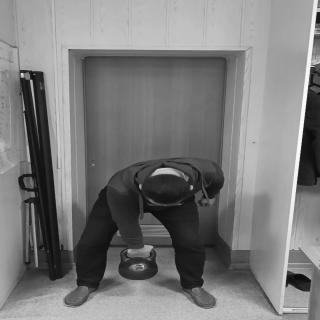kettlebell: (119, 248, 158, 282)
